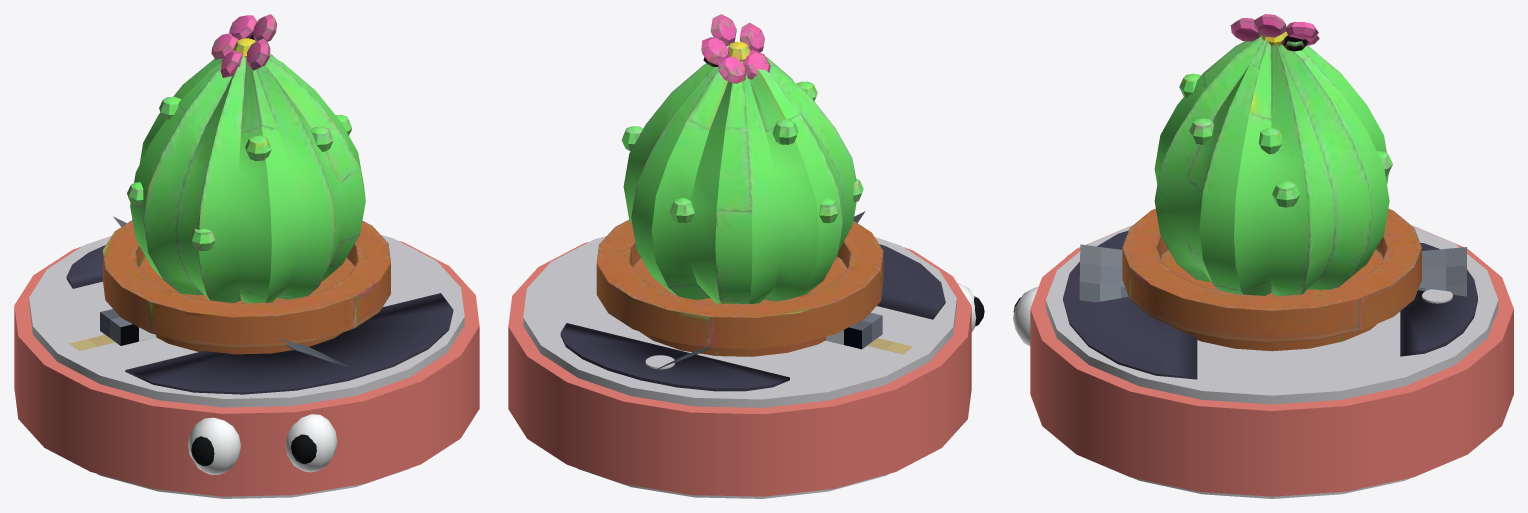
File: obstacles.glb
The picture shows the model from 3 angles, left to right: view 1: azimuth 30°, elevation 25°; view 2: azimuth 150°, elevation 25°; view 3: azimuth 270°, elevation 25°; orthographic projection. The views are drawn at different scales.
Visible parts, largest first — view 1: vacuum.001, pot, vacuum_eyes, crow_body; view 2: vacuum.001, pot, crow_body; view 3: vacuum.001, pot, crow_wing_near_mesh, crow_wing_far_mesh, vacuum_eyes.
Part boxes in pixels (left/top/right/bottom): vacuum.001: left=14, top=235, right=479, bottom=498; pot: left=103, top=14, right=390, bottom=354; vacuum_eyes: left=188, top=414, right=337, bottom=474; crow_body: left=69, top=309, right=156, bottom=350; vacuum.001: left=508, top=236, right=971, bottom=498; pot: left=596, top=14, right=883, bottom=356; crow_body: left=825, top=312, right=912, bottom=354; vacuum.001: left=1030, top=225, right=1513, bottom=498; pot: left=1122, top=14, right=1421, bottom=351; crow_wing_near_mesh: left=1079, top=244, right=1128, bottom=302; crow_wing_far_mesh: left=1418, top=247, right=1466, bottom=296; vacuum_eyes: left=1013, top=255, right=1068, bottom=346.
Bounding box in the file's own units: 0.95 × 0.9 × 0.984.
Materials: 7 (7 with a texture image).
